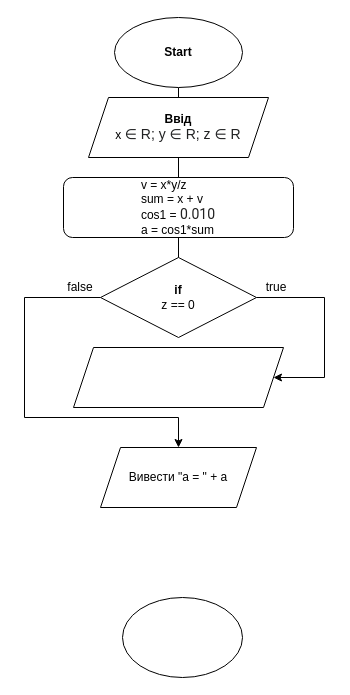
This 350x695 diagram has some shape labels left out. The shapes that lost their labels are listed below. From the top down, each one's box as (x1, y1, x2, y2) in pixels, then its label:
(72, 346, 284, 408): Вивід "z неможе дорівнювати 0."
(122, 596, 242, 678): End
